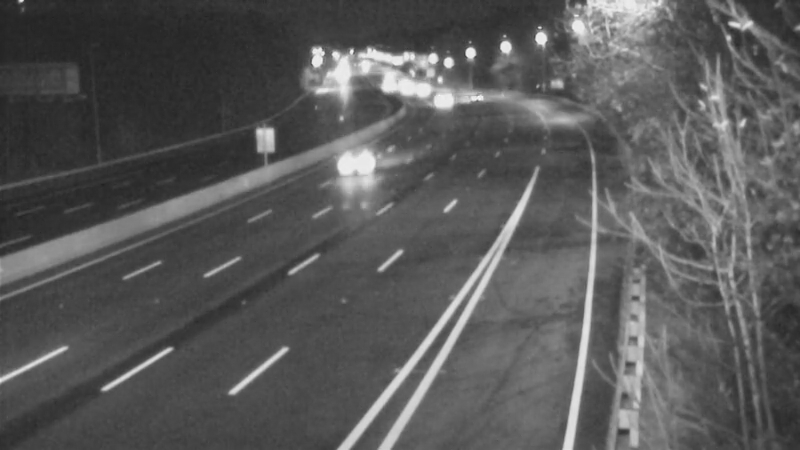vehicle: (333, 121, 413, 201), (448, 70, 498, 120), (413, 68, 463, 118)
